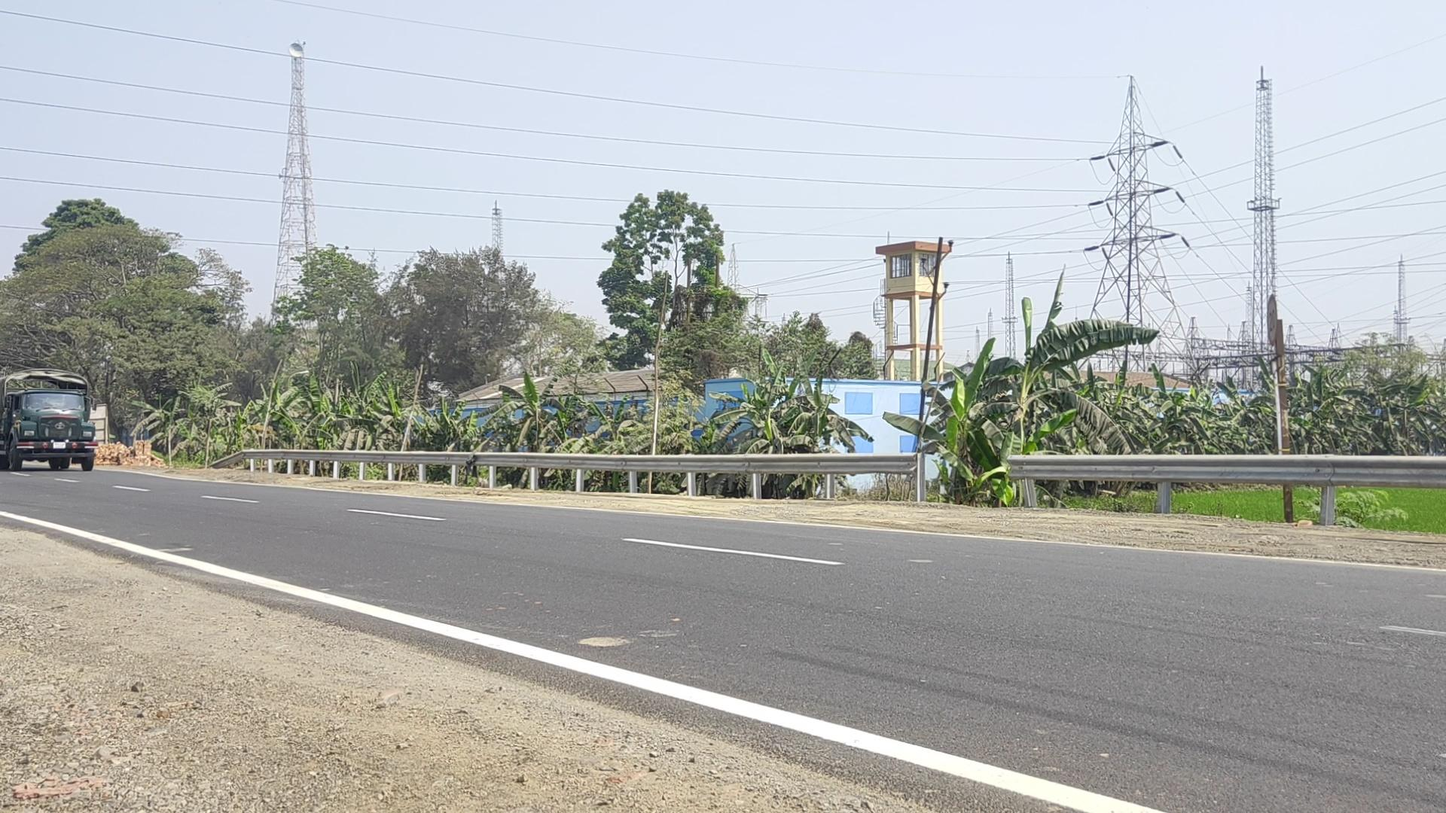truck: (1, 368, 99, 472)
